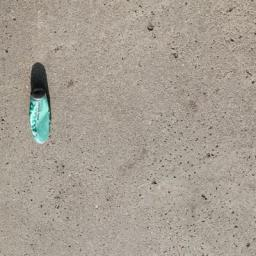FOD: (20, 60, 60, 149)
